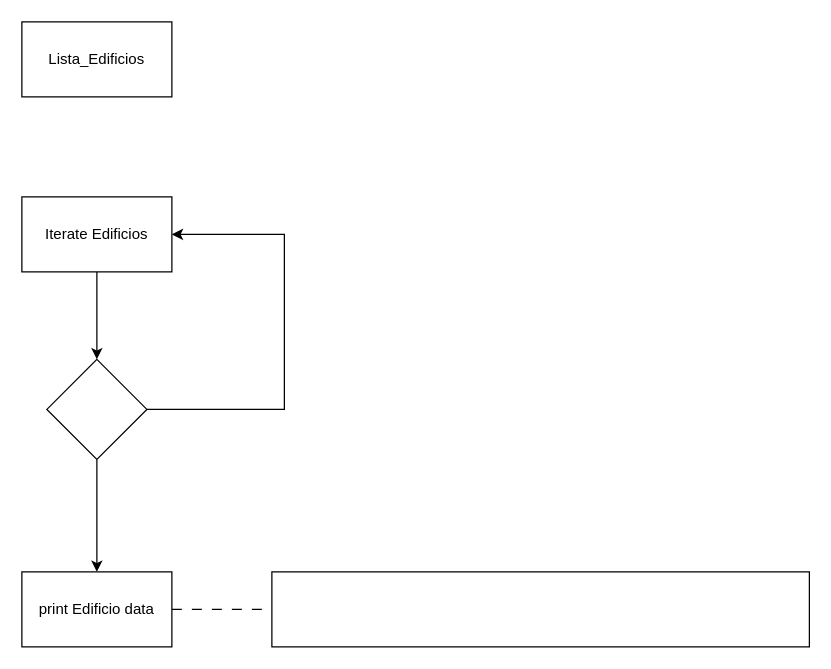
This 831x669 diagram has some shape labels left out. The centre of each missing label's shape, as x and y in pixels:
id != 0?: point (96, 408)
Id - Nombre - Aptos Básicos - Aptos Normales - Aptos de Lujo: point (540, 609)
